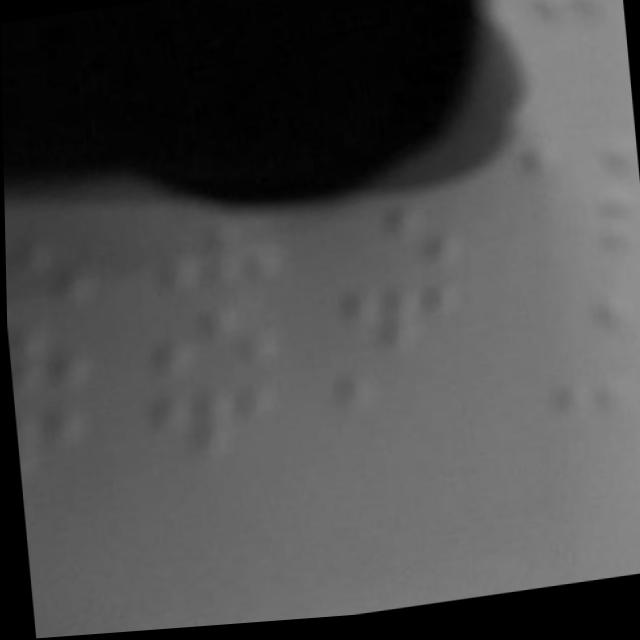braiile: (328, 202, 464, 287), (148, 374, 285, 453), (332, 279, 465, 360), (148, 303, 279, 384), (152, 219, 285, 295)
